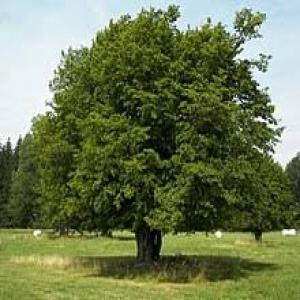Tree: (27, 1, 293, 258)
